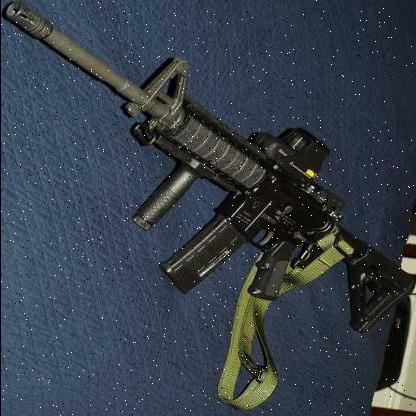rifle: (1, 0, 416, 343)
